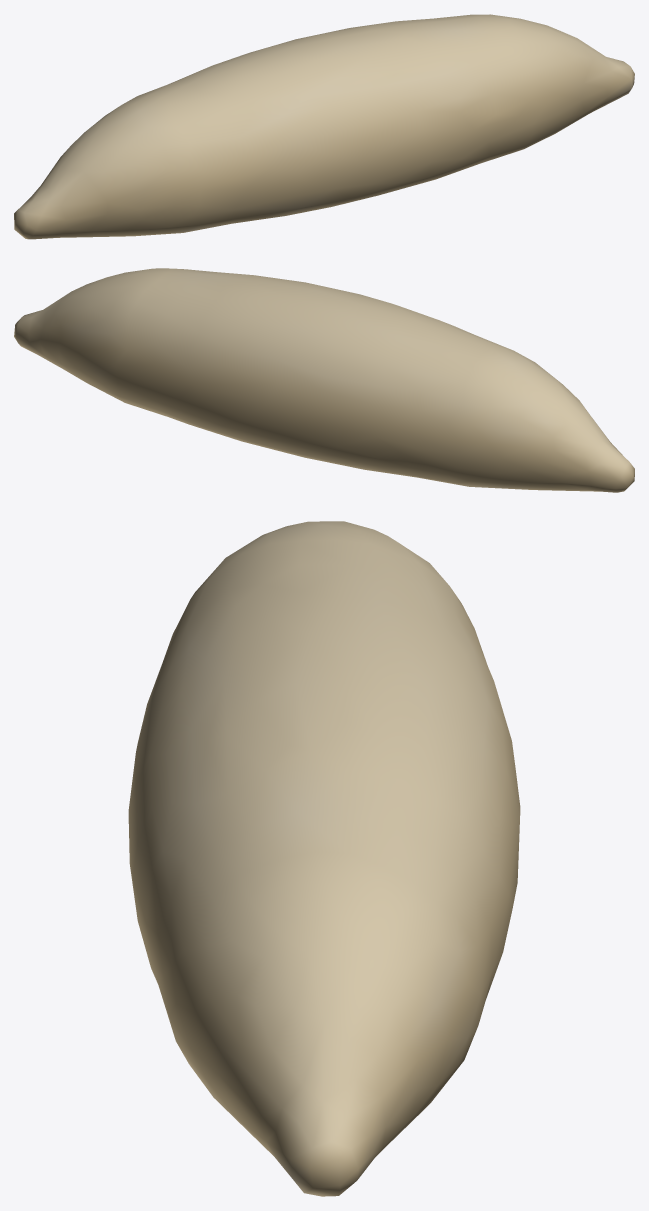
Rendered from banh_song.glb.
3 renders of one model, top to bottom at view 1: azimuth 30°, elevation 25°; view 2: azimuth 150°, elevation 25°; view 3: azimuth 270°, elevation 25°, orthographic. The views are drawn at different scales.
Parts seen in each view (by area): view 1: banh_song; view 2: banh_song; view 3: banh_song.
Boxes of the visible parts, x1,y1,x2,y2 form: banh_song: [14, 14, 634, 239]; banh_song: [14, 268, 634, 492]; banh_song: [128, 521, 520, 1196].
Bounding box in the file's own units: 0.3631 × 0.0748 × 0.1001.
